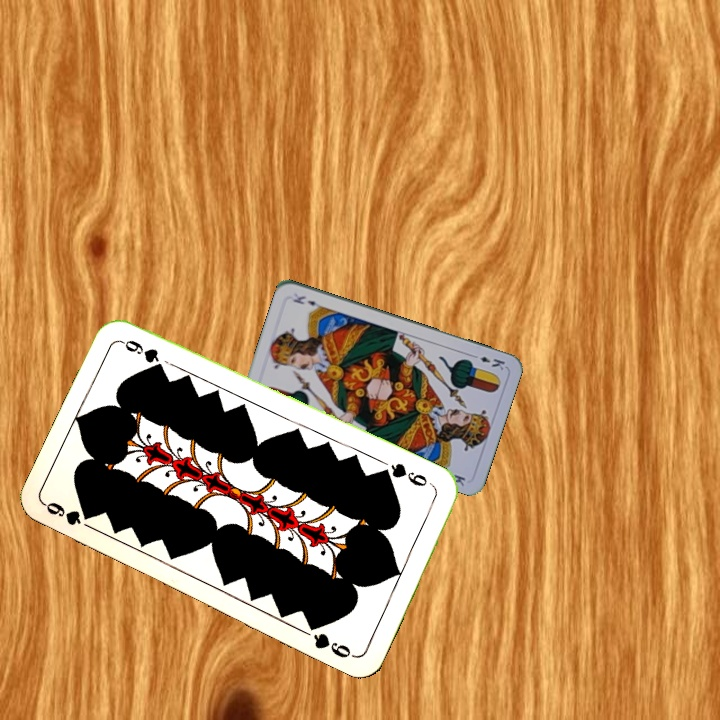EK: (467, 350, 508, 373)
G9: (379, 459, 437, 491), (41, 498, 93, 528)
